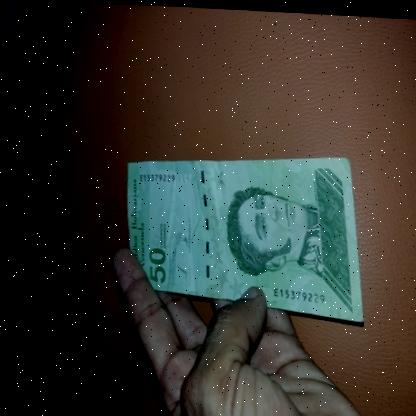fifty-front-vef: (114, 143, 360, 320)
